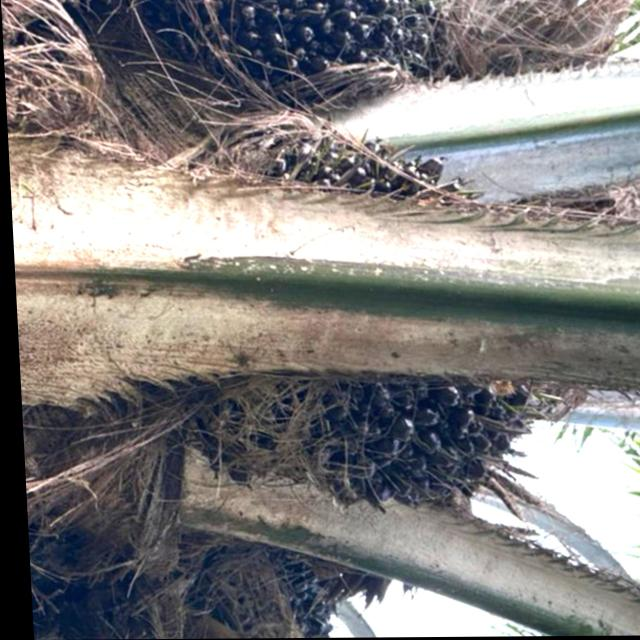almost: (191, 130, 566, 516)
